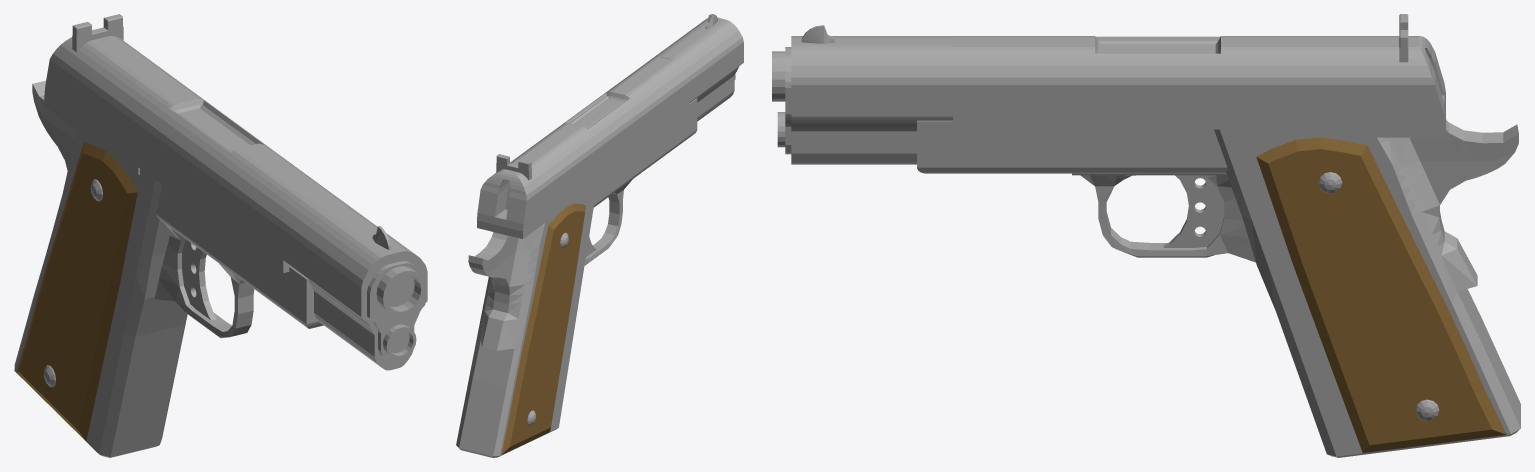
3 views of the same model, side by side, from view 1: azimuth 30°, elevation 25°; view 2: azimuth 150°, elevation 25°; view 3: azimuth 270°, elevation 25° (orthographic). The views are drawn at different scales.
Parts seen in each view (by area): view 1: HandGun; view 2: HandGun; view 3: HandGun.
Boxes of the visible parts, x1=… form: HandGun: x1=14, y1=14, x2=427, y2=457; HandGun: x1=456, y1=14, x2=743, y2=457; HandGun: x1=772, y1=14, x2=1520, y2=457.
Size of the model in its own units: 0.7239 by 3.46 by 5.58.
